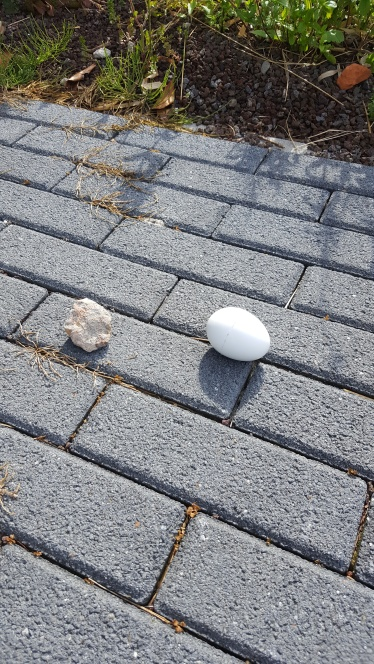egg: (203, 305, 273, 363)
